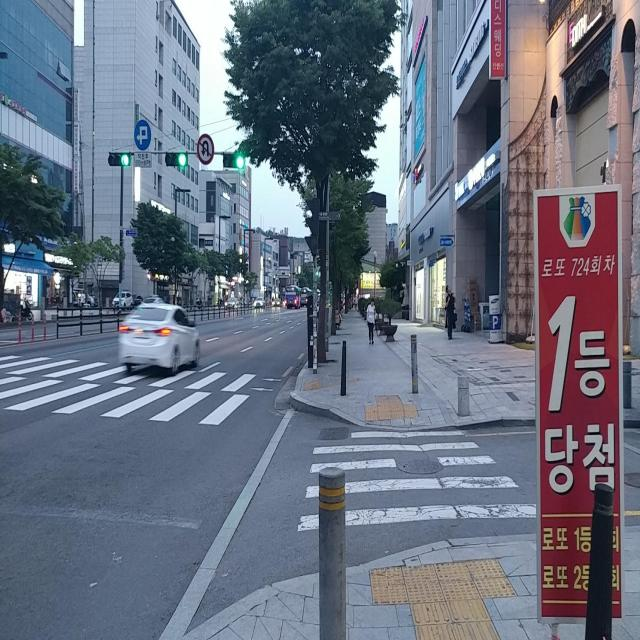횡단보도: (295, 427, 538, 535), (0, 352, 285, 428)
